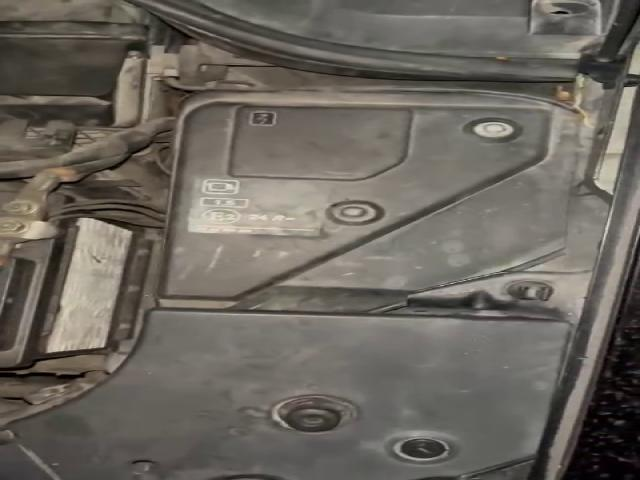fuse_box: (158, 89, 577, 315)
